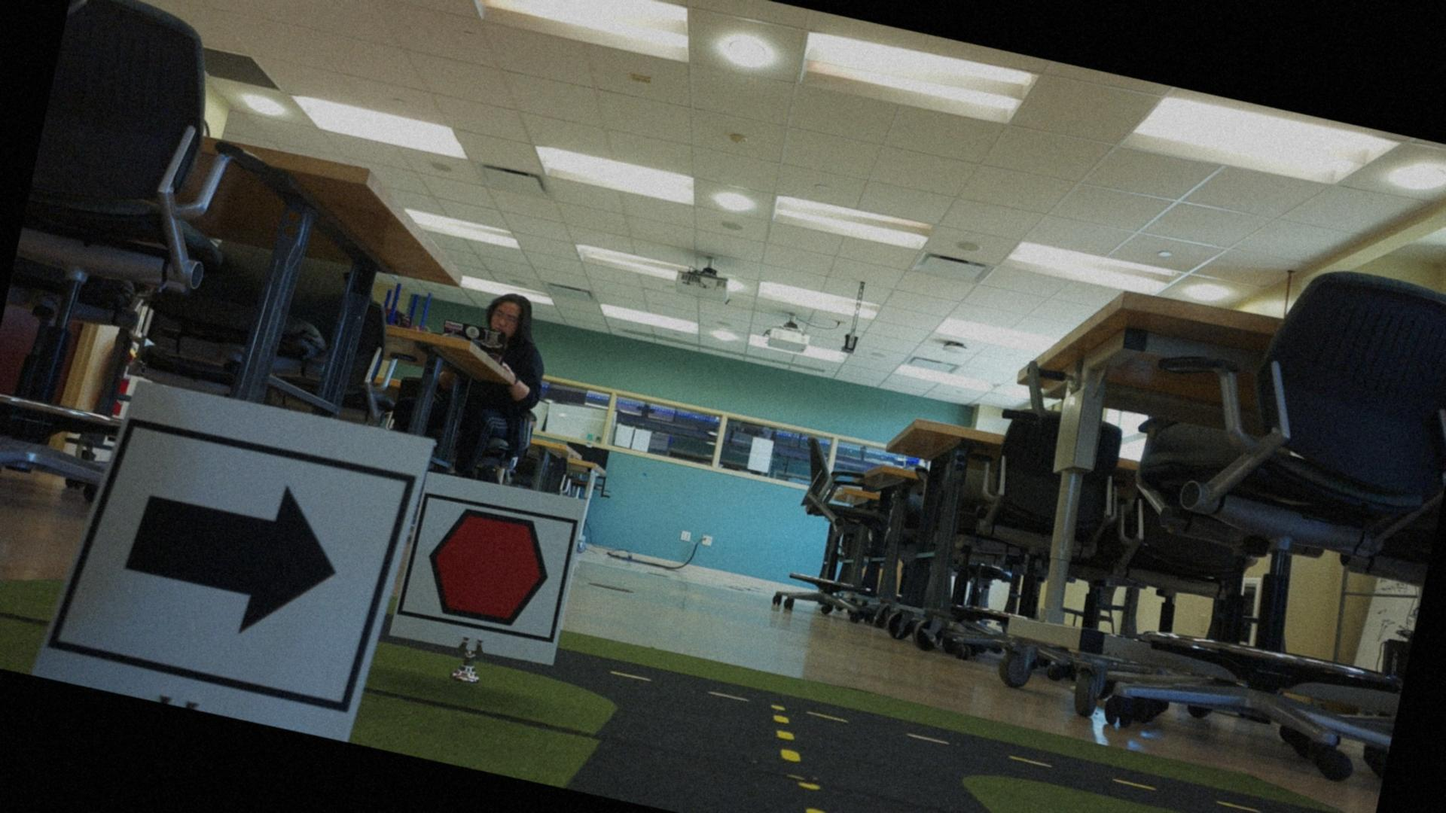stop: (404, 493, 572, 644)
turnright: (75, 422, 400, 711)
yellowline: (753, 711, 852, 812)
